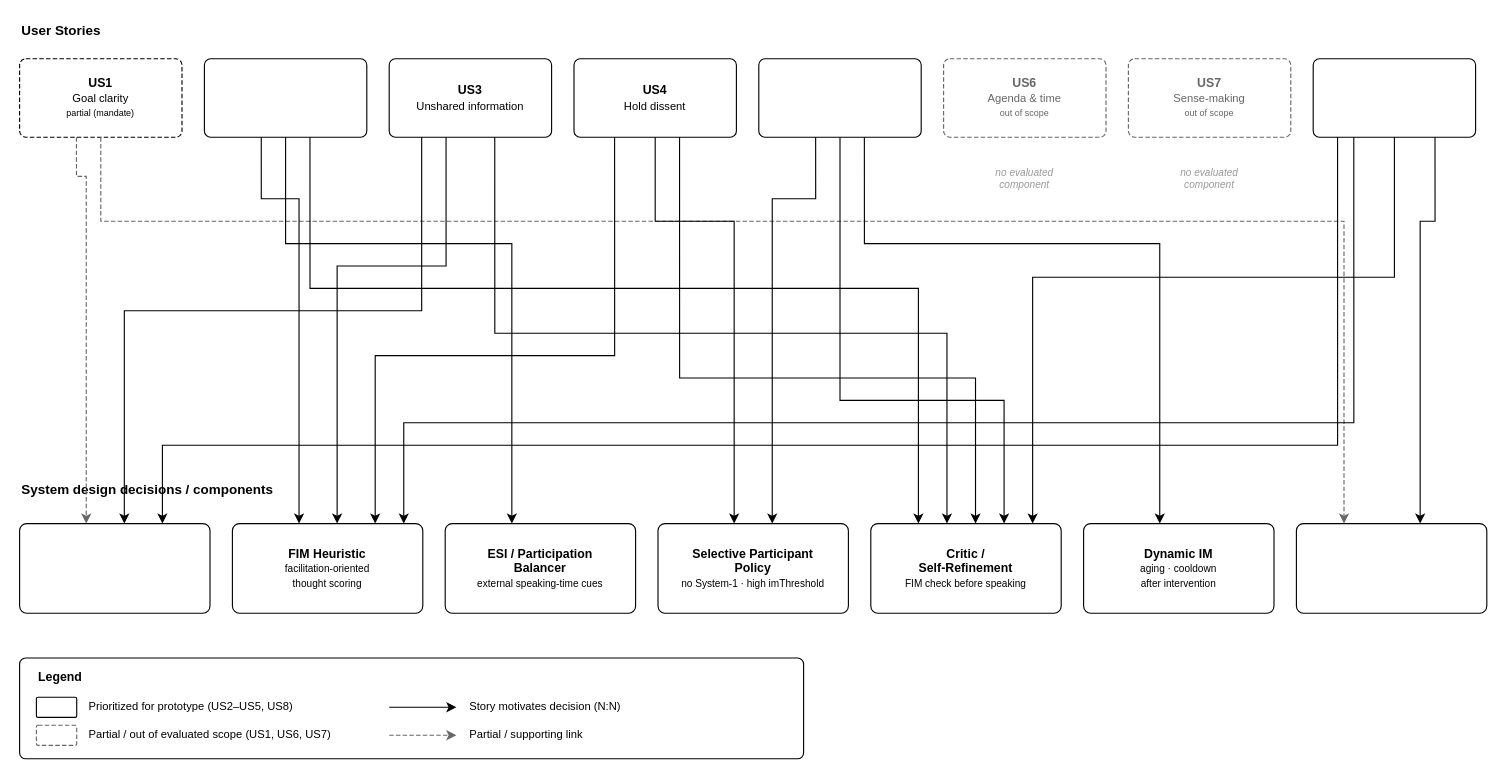
The diagram is 1506 pixels wide and 778 high, and some of its shapes have lost their labels. Each missing label, with the centre of its shape:
Adapted Inner Thoughts facilitation framing instead of casual talk: pixel 114 567
Facilitation Mandate goal · process · criteria (not preferences): pixel 1391 567
US2 Quiet voices: pixel 285 97
US5 Sparse intervention: pixel 839 97
US8 Neutrality: pixel 1394 97
